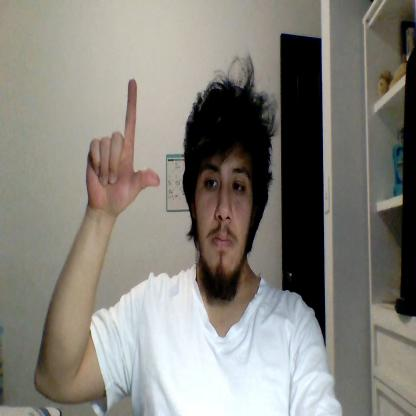L: (86, 79, 160, 213)
